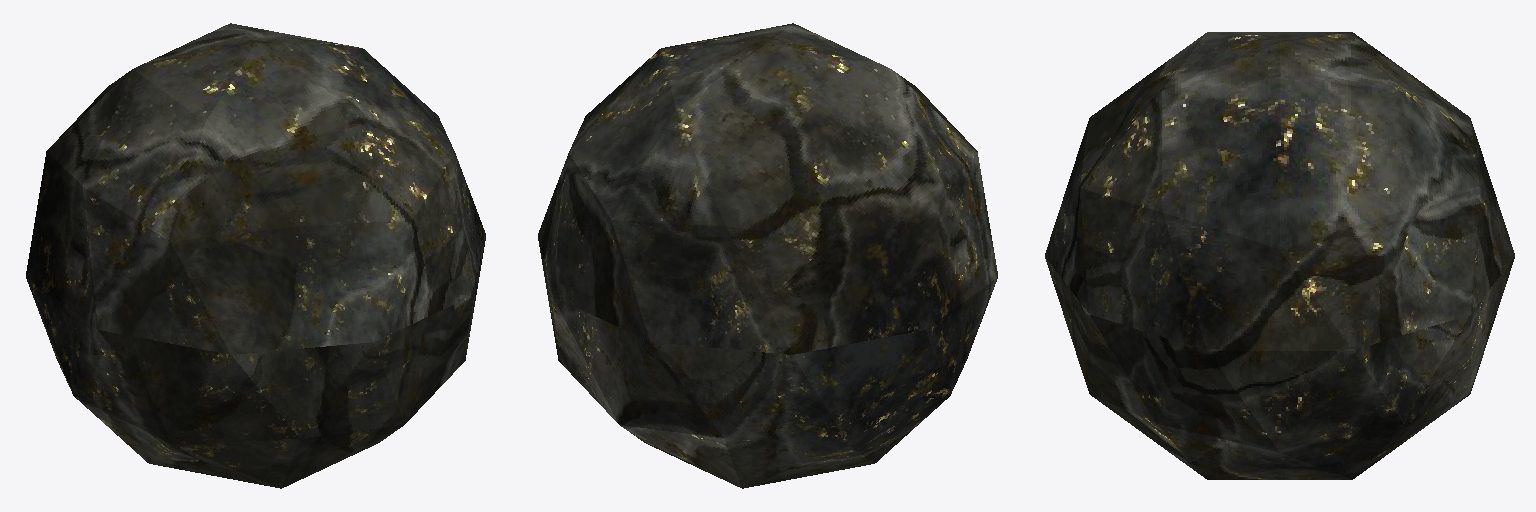
3 views of the same model, side by side, from view 1: azimuth 30°, elevation 25°; view 2: azimuth 150°, elevation 25°; view 3: azimuth 270°, elevation 25° (orthographic).
Parts seen in each view (by area): view 1: Icosphere; view 2: Icosphere; view 3: Icosphere.
Part boxes in pixels (x1,y1,x2,y2): Icosphere: (26,23,485,488); Icosphere: (538,23,997,488); Icosphere: (1045,32,1514,479).
Bounding box in the file's own units: 1.9 × 2 × 2.
Materials: 1 (1 with a texture image).